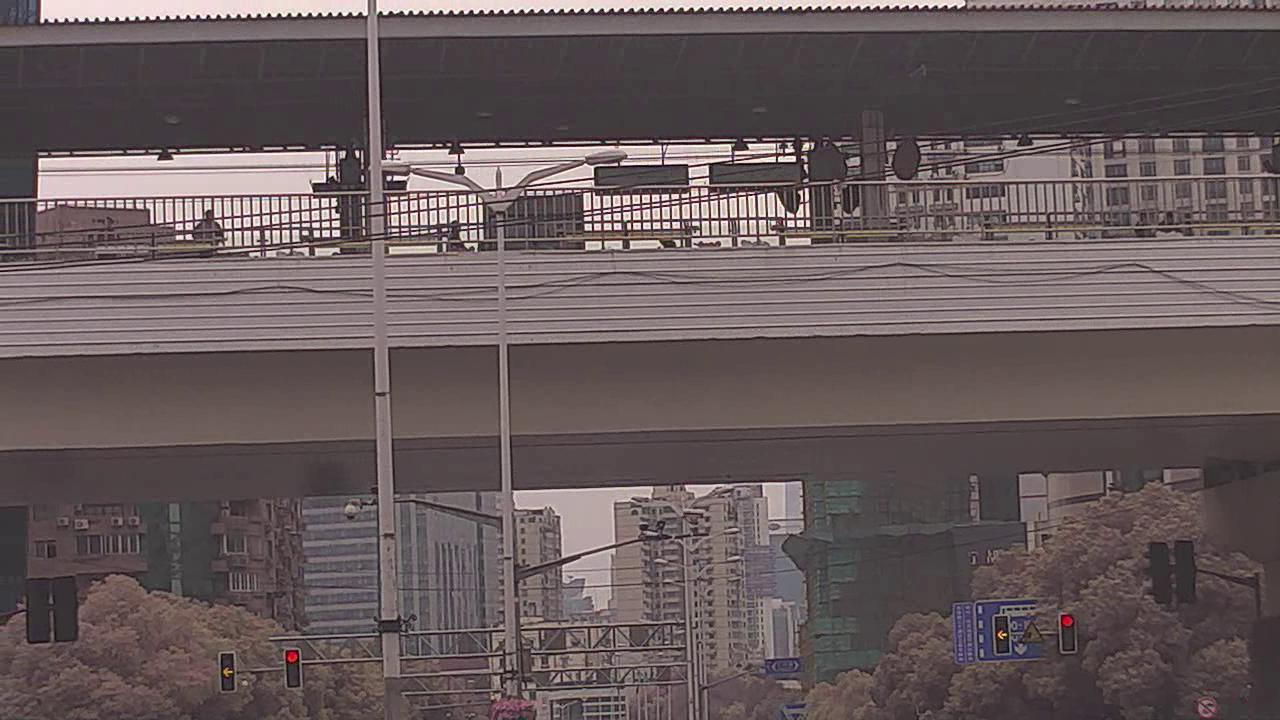traffic_light: (994, 613, 1015, 656), (1058, 610, 1077, 655), (285, 645, 304, 689), (219, 647, 236, 696)
